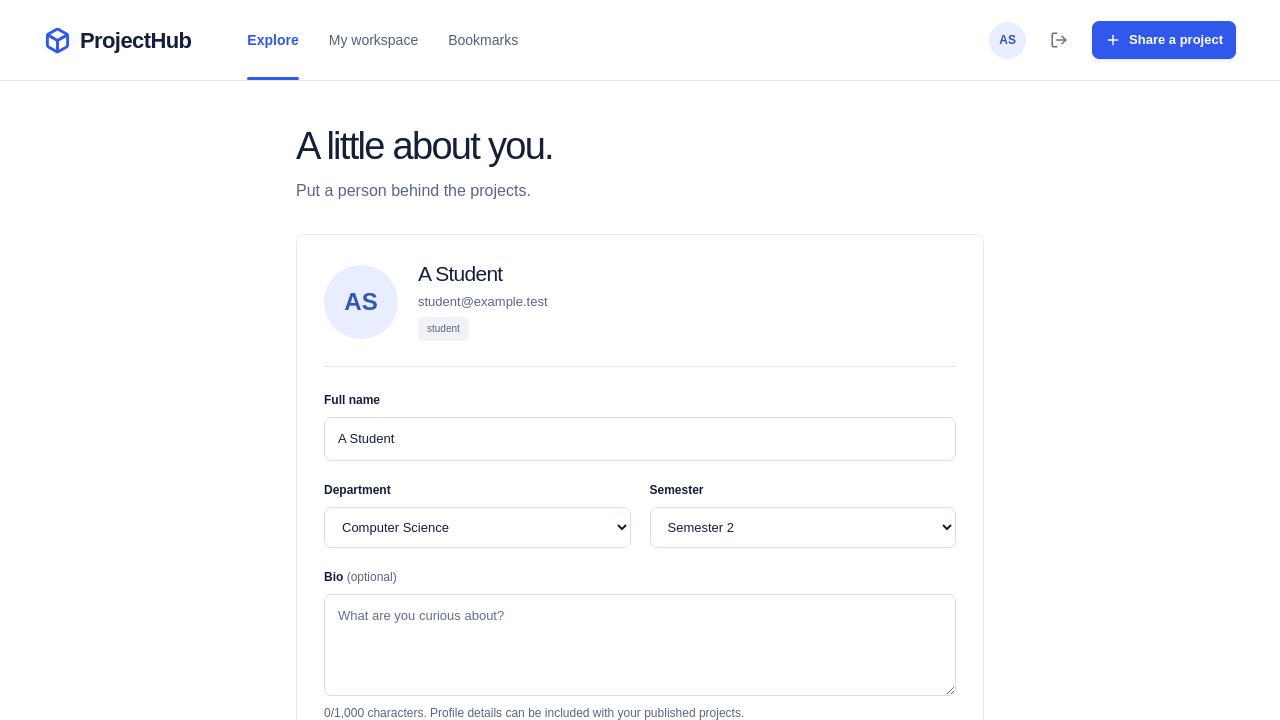
it: profile failures retain edits and repeated clicks do not send parallel saves
Step 1. Replace the text in the field labelled "Full name" with "Updated Student" → [640, 439], box [324,417,956,461]
(page scrolled)
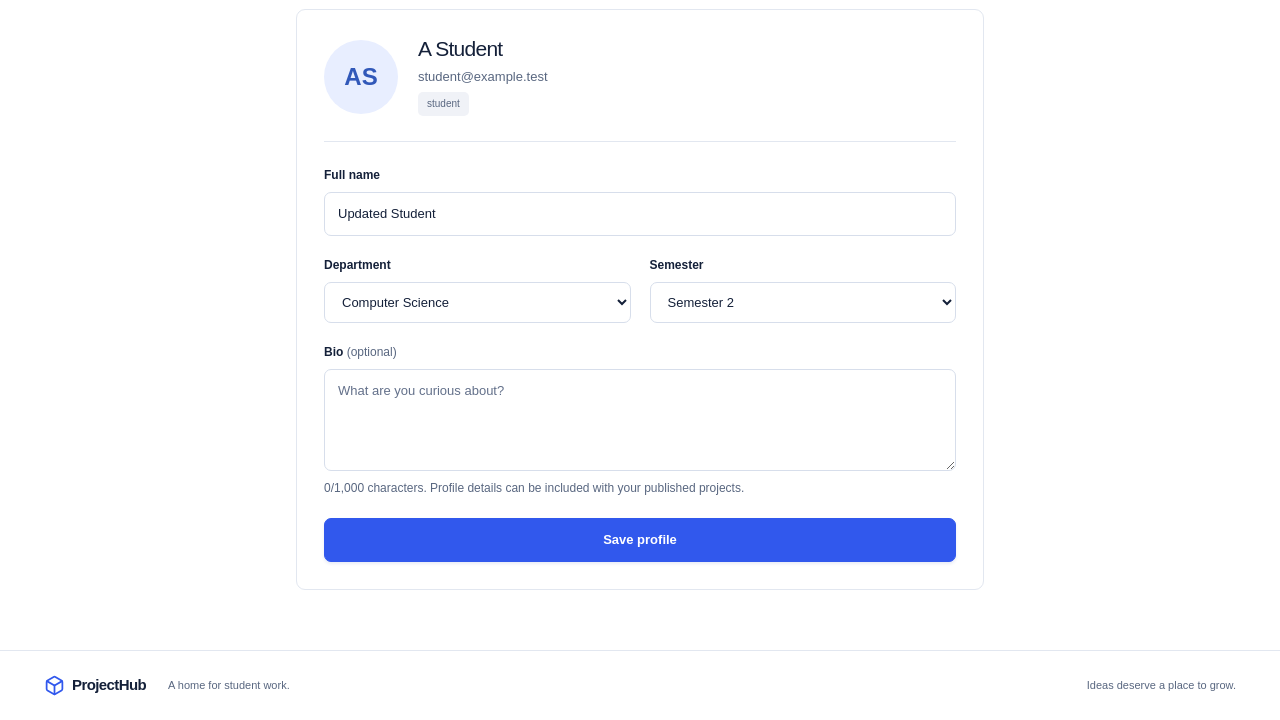
Step 2. Submit the form labelled "Full name", box [324,166,956,562]
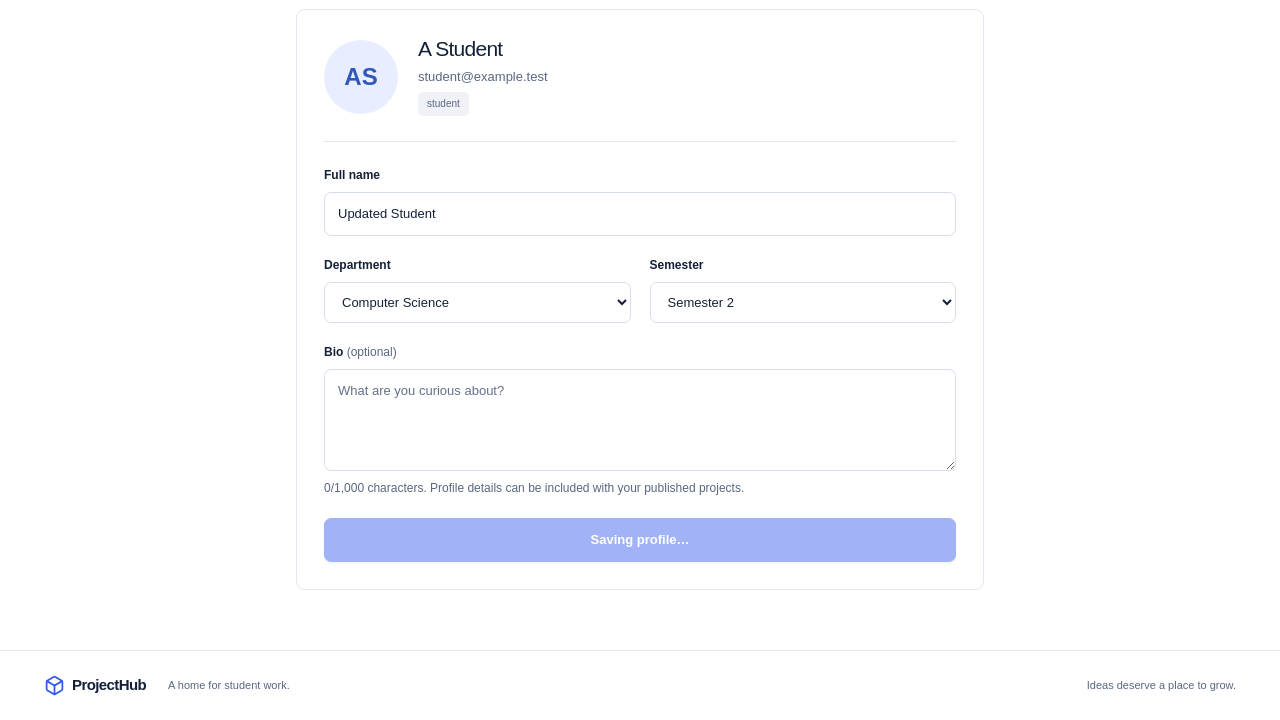
Step 3. Submit the form labelled "Full name", box [324,166,956,562]
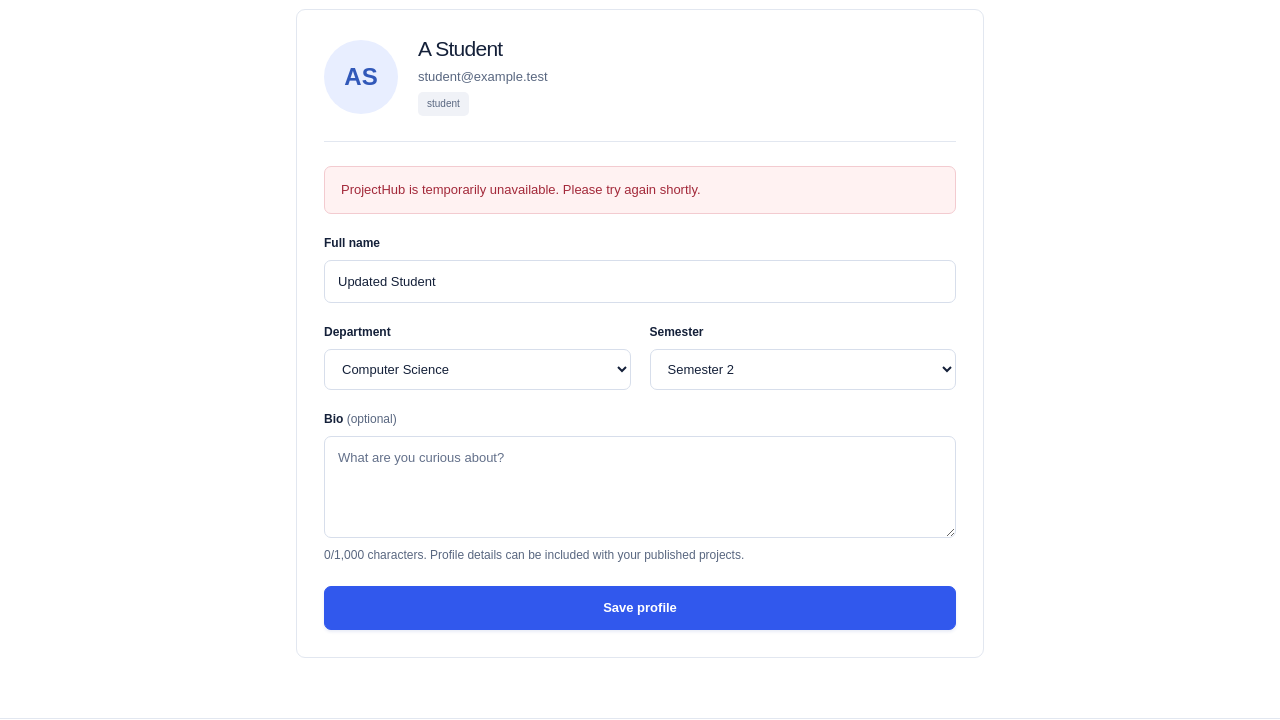
expect the message "ProjectHub is temporarily unavailable. Please try again shortly." is shown: met, box [324,166,956,214]
